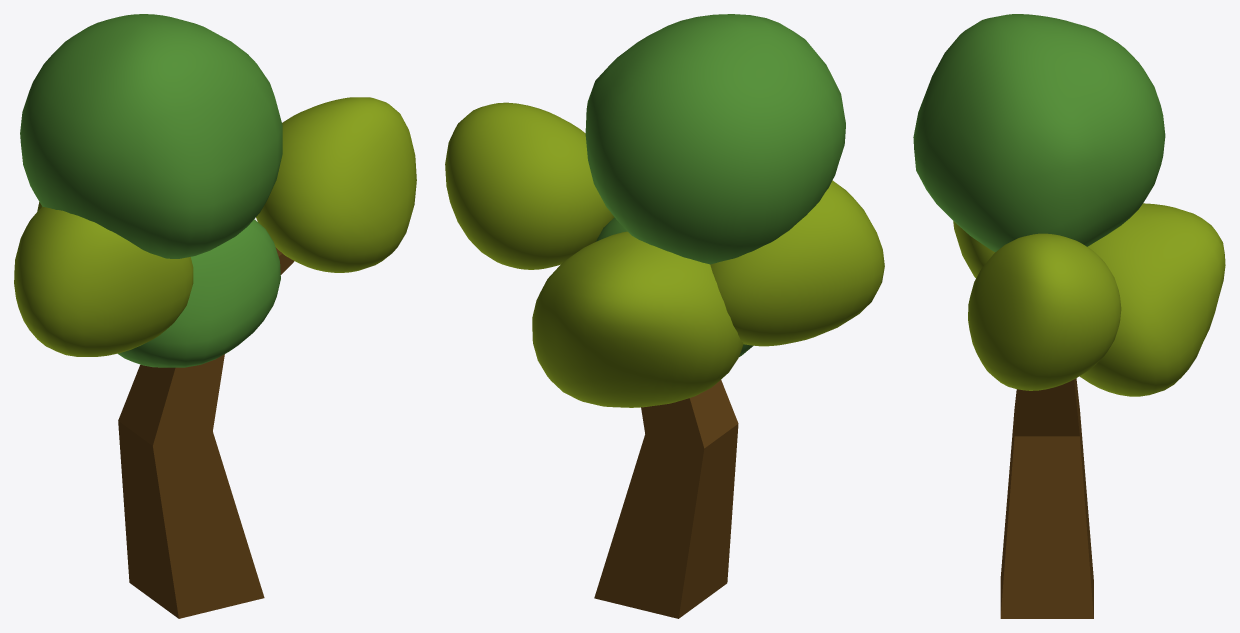
The model's file is Tree1.fbx.
The picture shows the model from 3 angles, left to right: view 1: azimuth 30°, elevation 25°; view 2: azimuth 150°, elevation 25°; view 3: azimuth 270°, elevation 25°; orthographic projection. The views are drawn at different scales.
Visible parts, largest first — view 1: Tree1; view 2: Tree1; view 3: Tree1.
Part boxes in pixels (box(x1,y1,x2,y2)): Tree1: box(14, 14, 416, 618); Tree1: box(445, 14, 884, 618); Tree1: box(913, 14, 1225, 618).
Bounding box in the file's own units: 2112 × 2885 × 1485.
